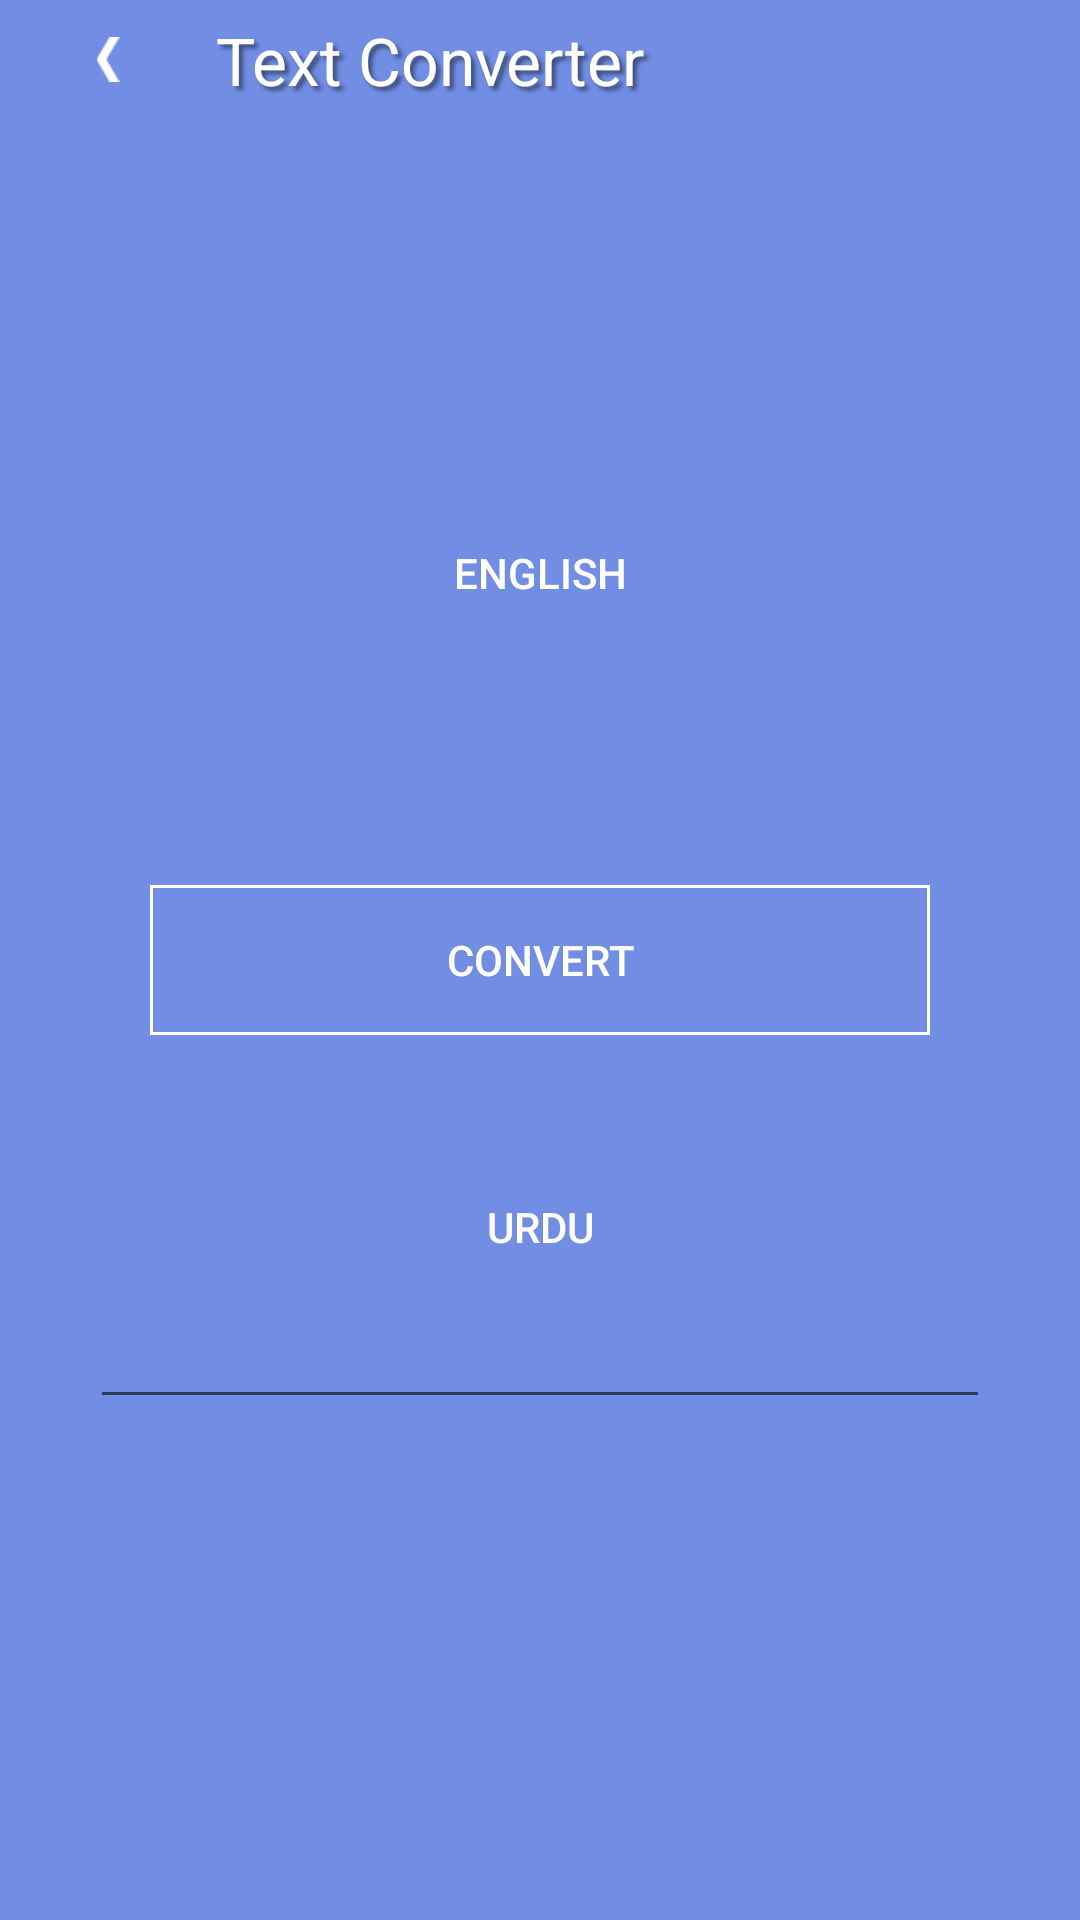

Icon bounding boxes for this 1080w x 1920h phone screenshot, format bbox=[x1, y1, x2, y2]:
back arrow: bbox=[97, 37, 120, 82]
